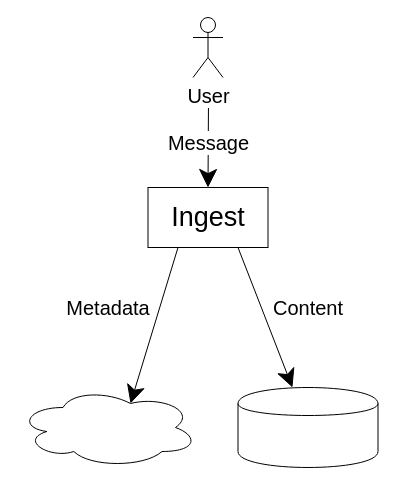
The diagram is 395 pixels wide and 485 high, and some of its shapes have lost their labels. The centre of each missing label's shape, as x and y in pixels:
Persistence: pixel 307 427
Processing: pixel 107 427
